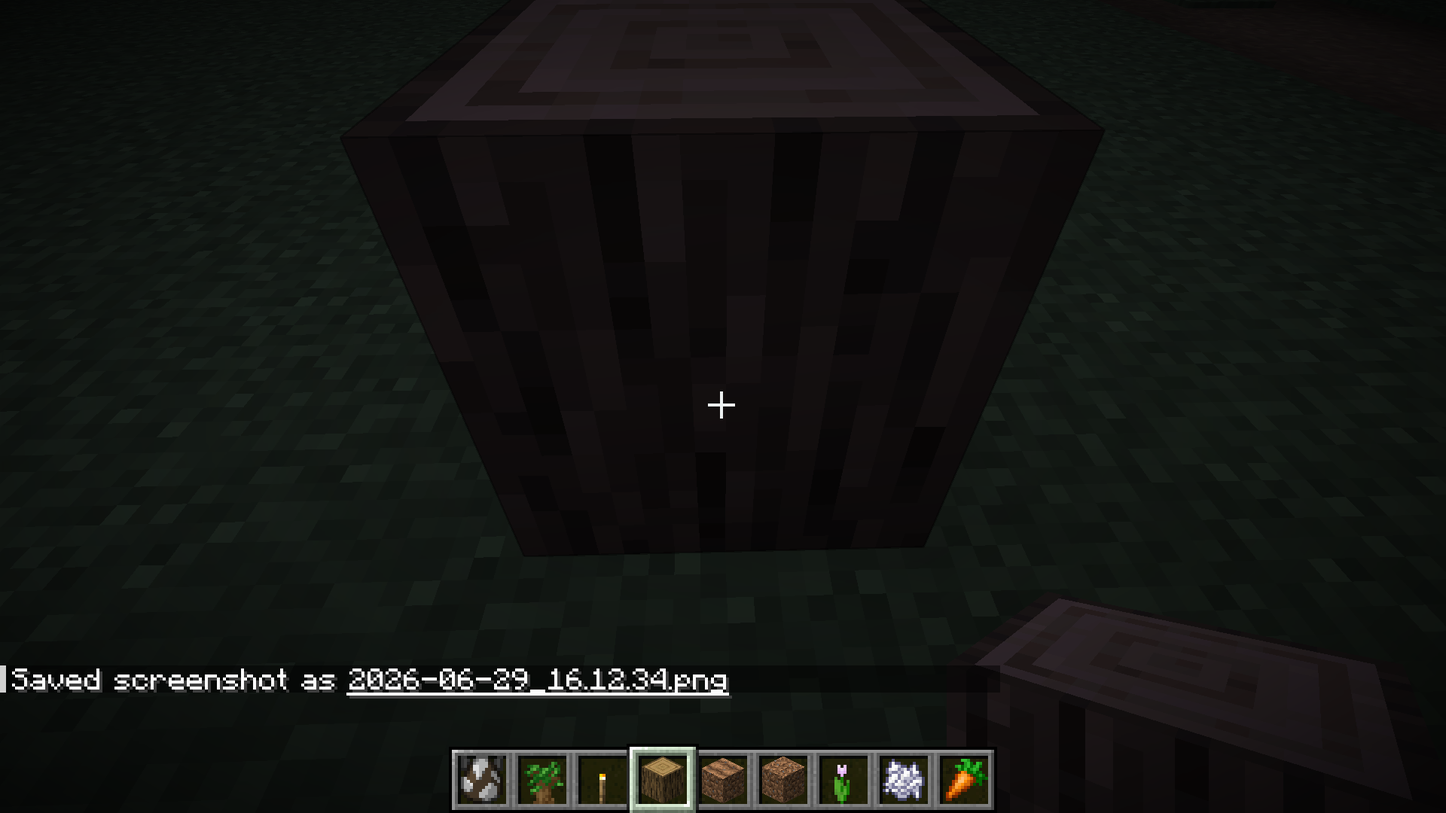wood: (346, 133, 1100, 555), (355, 1, 1095, 129)
